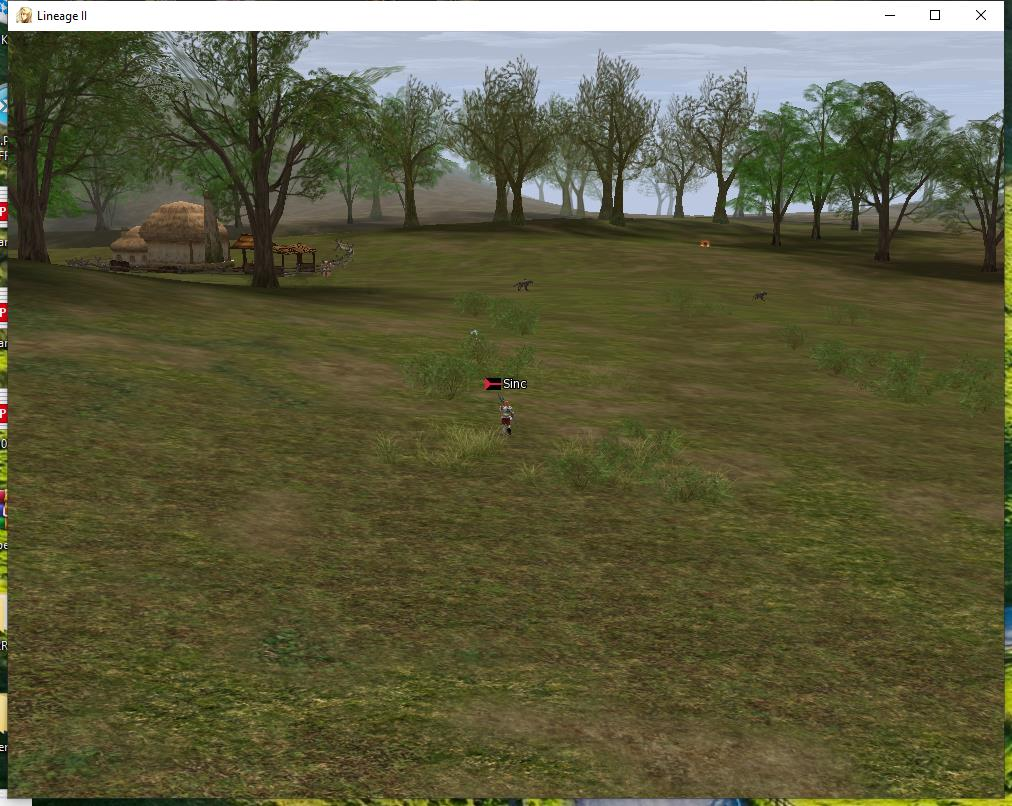monster: (749, 282, 771, 309), (514, 275, 543, 295)
